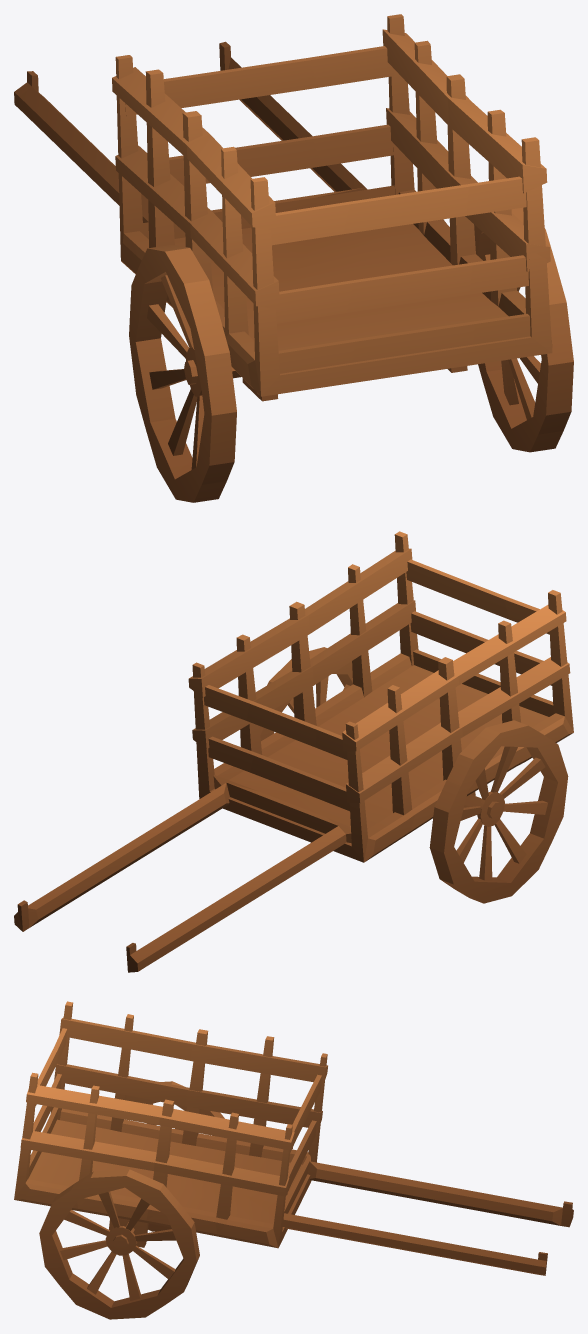
File: Cart.FBX
3 renders of one model, top to bottom at view 1: azimuth 30°, elevation 25°; view 2: azimuth 150°, elevation 25°; view 3: azimuth 270°, elevation 25°, orthographic. The views are drawn at different scales.
Visible parts, largest first — view 1: pasted__Wagon.002; view 2: pasted__Wagon.002; view 3: pasted__Wagon.002.
Boxes of the visible parts, bbox=[...] form: pasted__Wagon.002: bbox=[14, 14, 573, 502]; pasted__Wagon.002: bbox=[14, 531, 573, 972]; pasted__Wagon.002: bbox=[14, 1001, 573, 1319].
Bounding box in the file's own units: 59.1 × 52.69 × 118.
